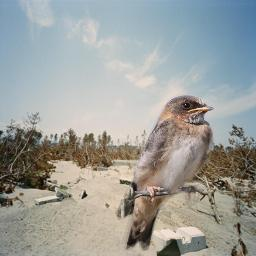Swallow: (115, 93, 215, 251)
